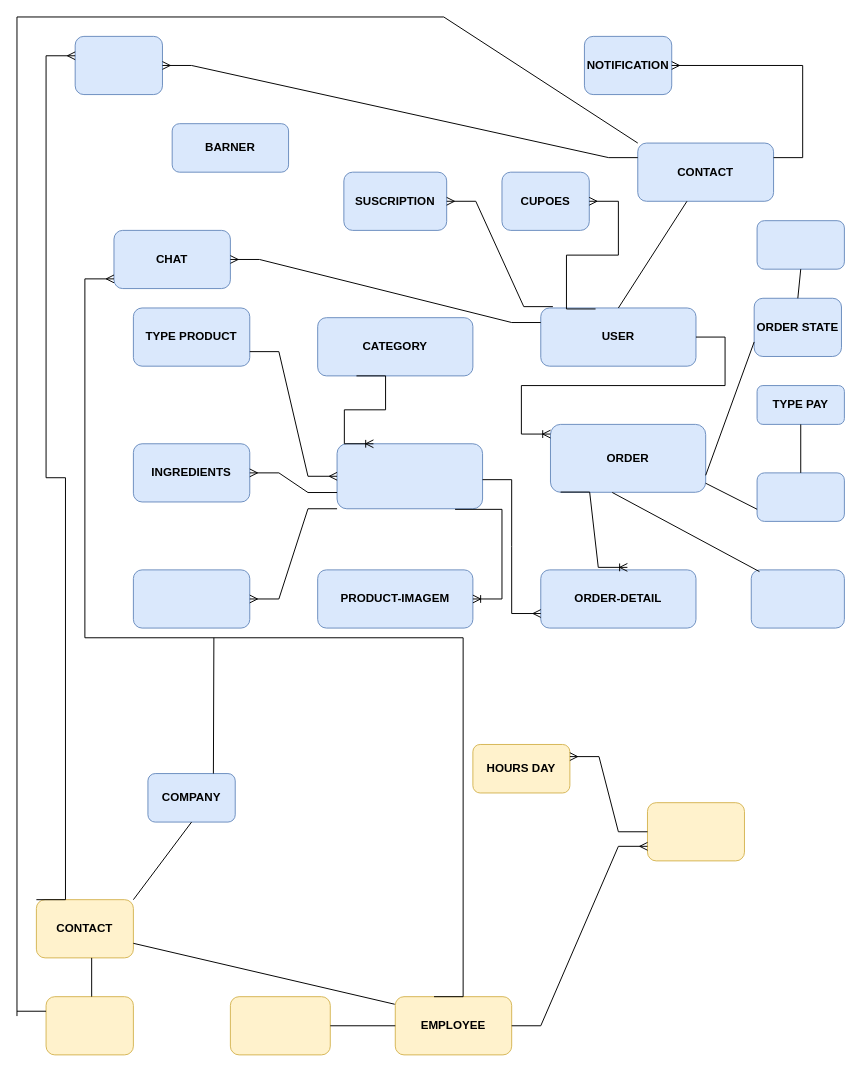
This 861x1072 diagram has some shape labels left out. Each missing label, with the box of its shape:
DAYS JOB: (647, 802, 744, 861)
GEOLOCATION: (45, 996, 133, 1055)
ORDER CANCELED: (750, 569, 844, 628)
PAY: (756, 472, 844, 521)
PRODUCT: (336, 443, 483, 509)
PROMOTION: (132, 569, 250, 628)
SMS: (74, 35, 162, 95)
STATE: (756, 220, 844, 269)
TYPE EMPLOYEE: (229, 996, 330, 1055)
